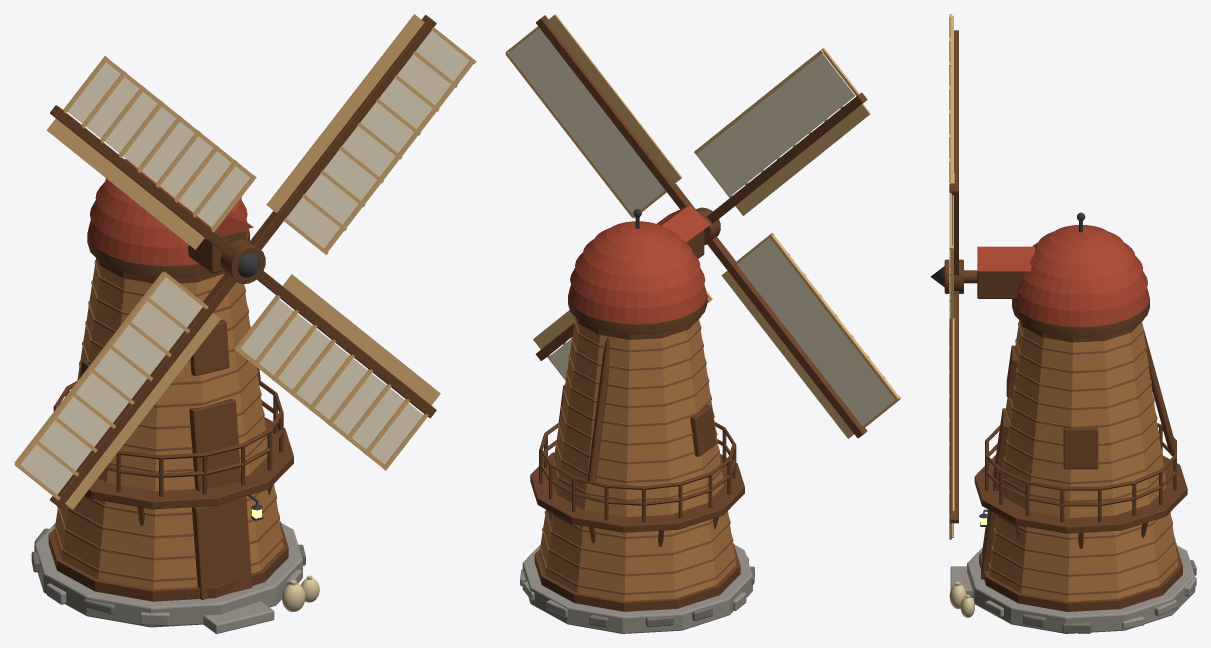
File: gen_windmill.mobile-high.glb
3 renders of one model, left to right at view 1: azimuth 30°, elevation 25°; view 2: azimuth 150°, elevation 25°; view 3: azimuth 270°, elevation 25°, orthographic. The views are drawn at different scales.
Visible parts, largest first — view 1: windmill_sails, gen_windmill; view 2: gen_windmill, windmill_sails; view 3: gen_windmill, windmill_sails.
Boxes of the visible parts, x1,y1,x2,y2 form: windmill_sails: (14,14,476,509); gen_windmill: (31,159,319,633); gen_windmill: (520,205,754,633); windmill_sails: (505,14,901,438); gen_windmill: (949,212,1196,633); windmill_sails: (930,14,977,539).
Bounding box in the file's own units: 11.78 × 14.79 × 6.95.
Materials: 1 (1 with a texture image).
